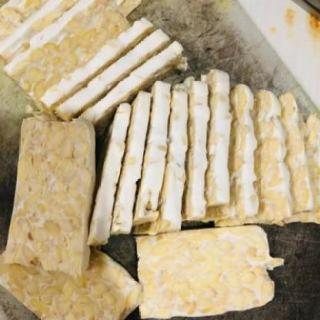Tempe: (4, 113, 98, 280), (133, 225, 285, 320)
